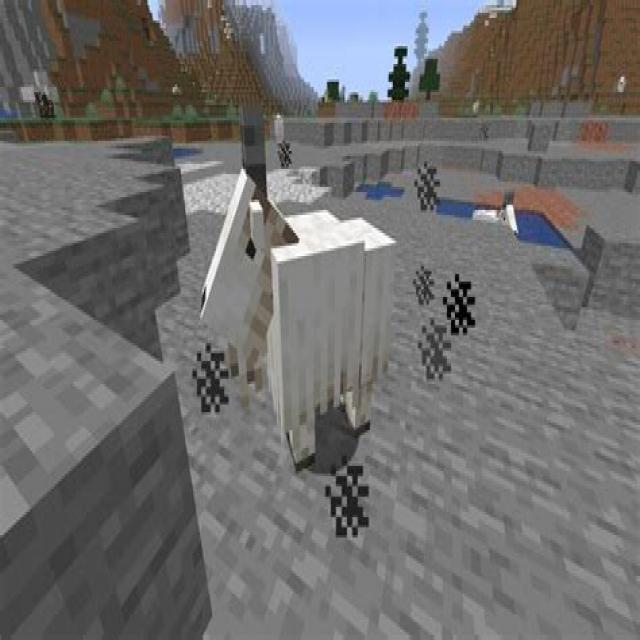Goat: (188, 97, 400, 476)
